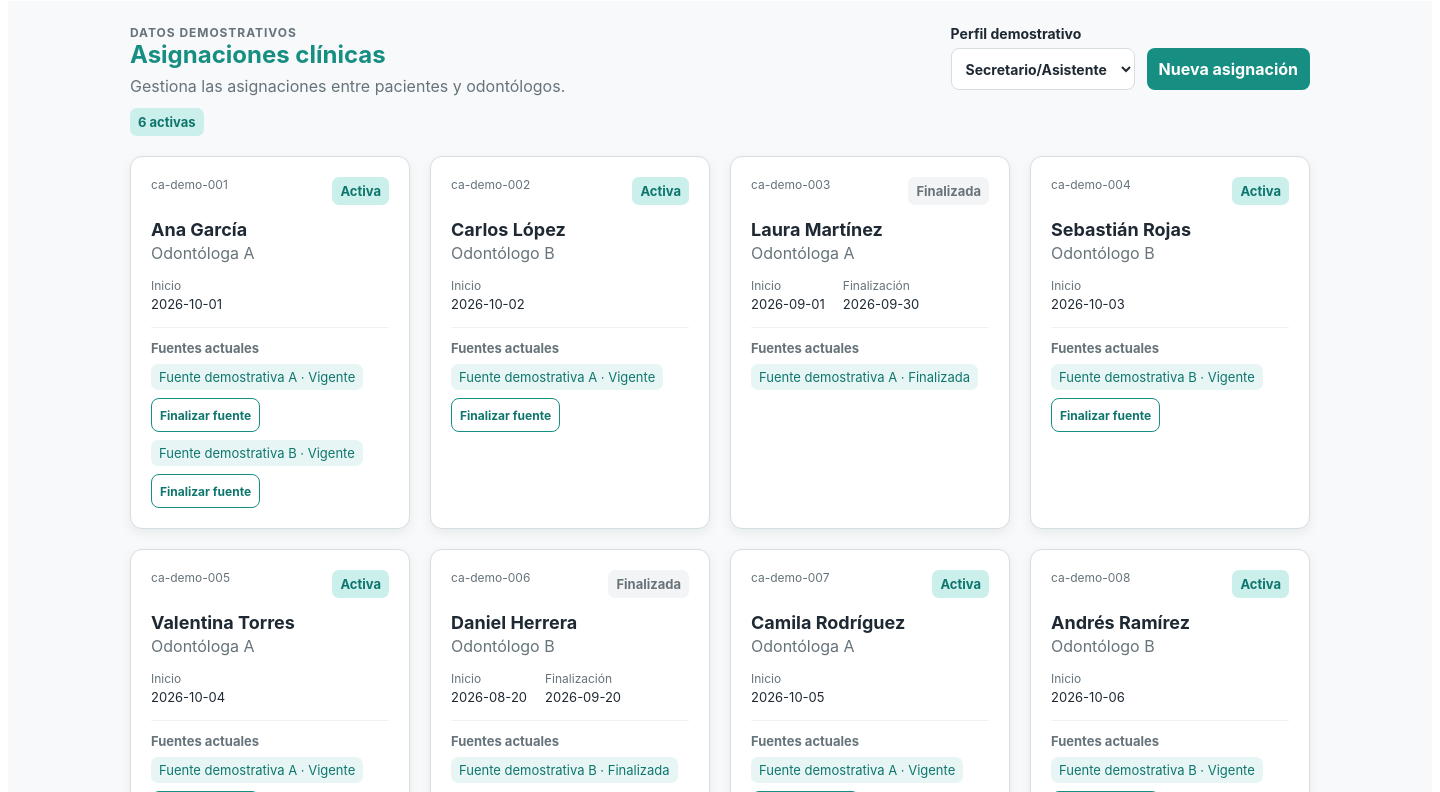
ClinicalAssignmentsPageComponent › ends only the selected active source and preserves an independent source
Step 1. Click the 1st button "Finalizar fuente" → (206,415), box [151,398,260,432]
(page scrolled)
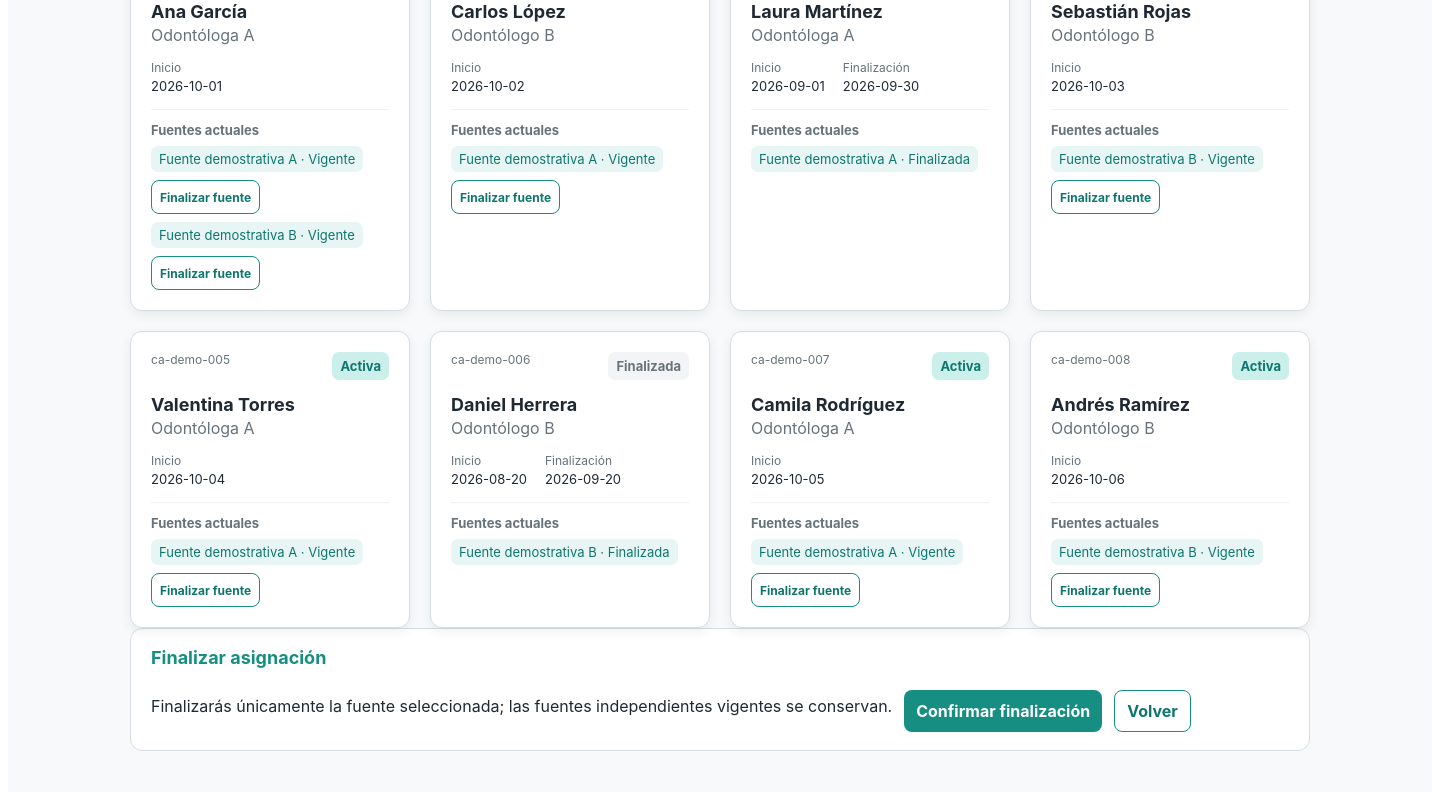
Expected: the text "Confirmar finalización" is shown
Step 2. Click the button "Confirmar finalización" → (1003,711), box [904,690,1102,732]
(page scrolled)
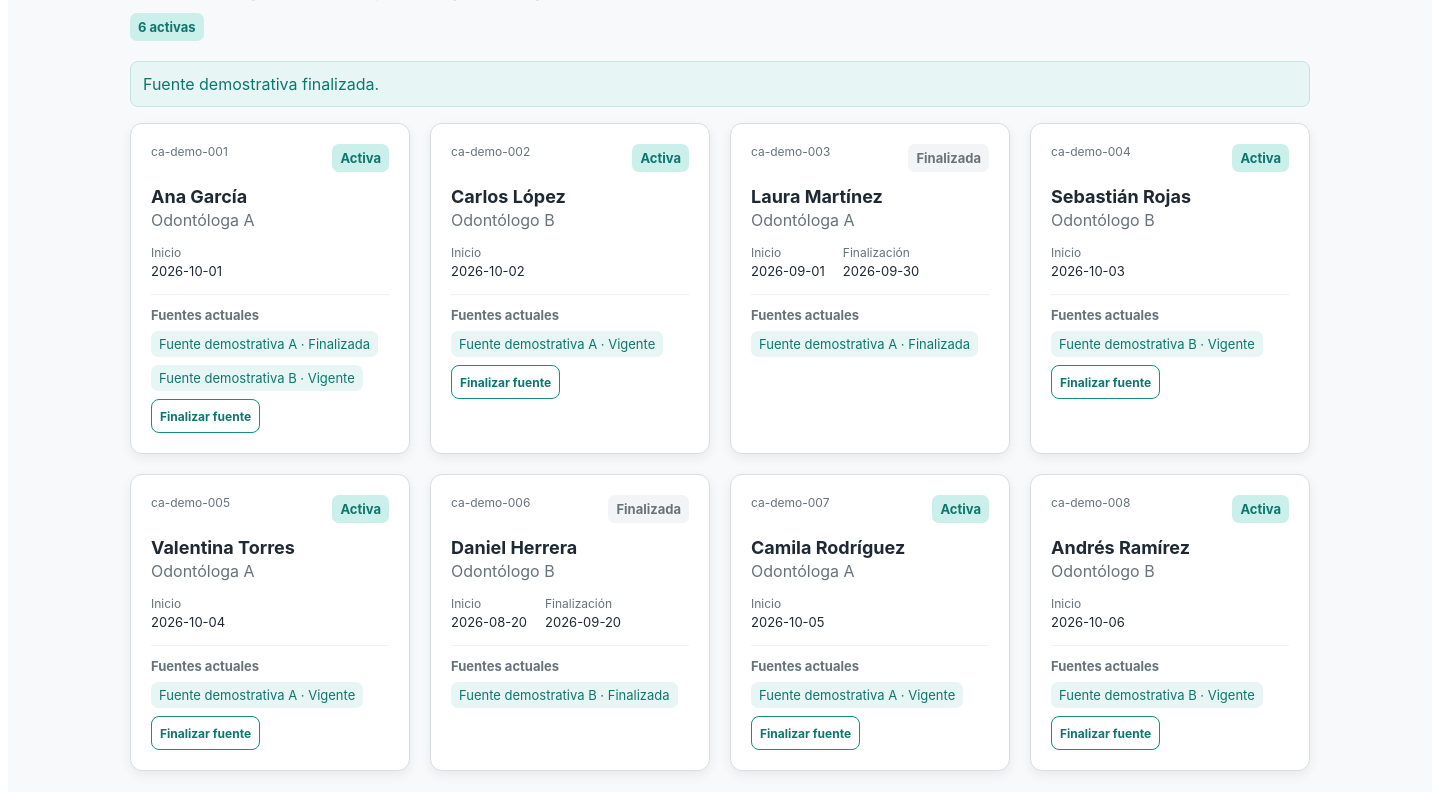
Expected: the element that starts with "ca-demo-001" shows "Fuente demostrativa B · Vigente", [159,370,355,386]
Expected: the element that starts with "ca-demo-001" shows "Fuente demostrativa A · Finalizada", [159,336,370,352]
